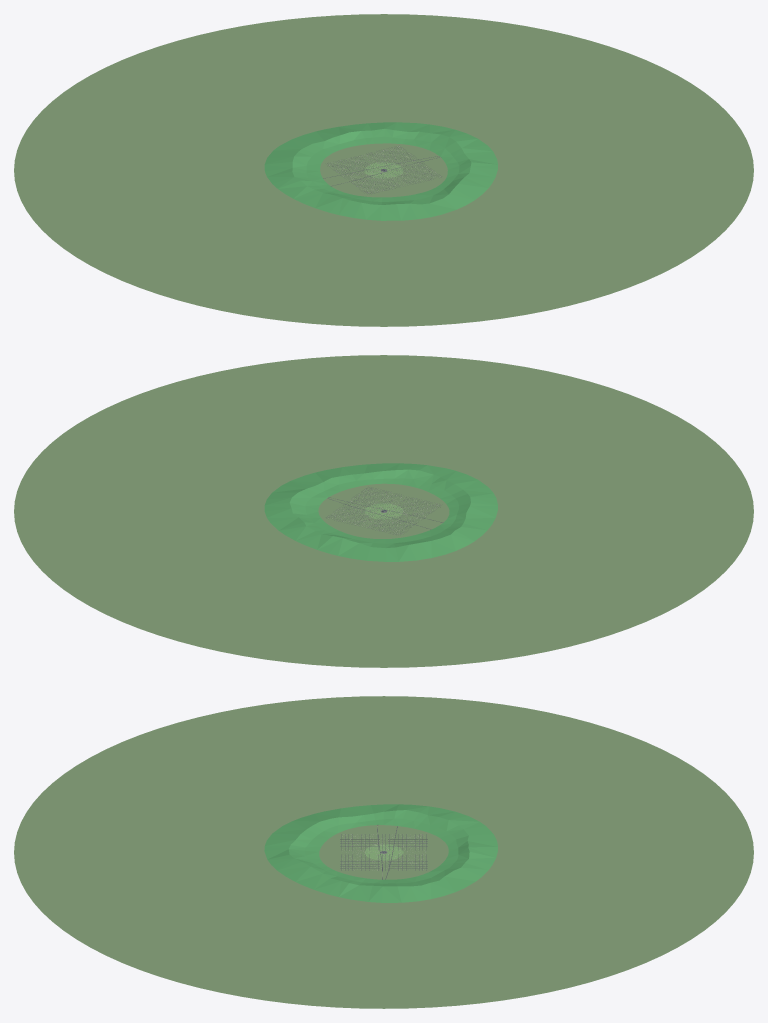
File: petronas-skyline.glb
3 views of the same model, one above another, from view 1: azimuth 30°, elevation 25°; view 2: azimuth 150°, elevation 25°; view 3: azimuth 270°, elevation 25° (orthographic).
Visible parts, largest first — view 1: UrbanGround, MountainRing360, UrbanRoads; view 2: UrbanGround, MountainRing360, UrbanRoads; view 3: UrbanGround, MountainRing360, UrbanRoads.
Part boxes in pixels (bbox=[...]): UrbanGround: bbox=[14, 14, 753, 326]; MountainRing360: bbox=[264, 122, 497, 220]; UrbanRoads: bbox=[323, 146, 441, 193]; UrbanGround: bbox=[14, 355, 753, 667]; MountainRing360: bbox=[264, 463, 497, 561]; UrbanRoads: bbox=[326, 487, 443, 534]; UrbanGround: bbox=[14, 696, 753, 1008]; MountainRing360: bbox=[264, 804, 497, 902]; UrbanRoads: bbox=[340, 825, 427, 879].
Bounding box in the file's own units: 1600 × 11.51 × 1600.
17 materials, 3 textured.
